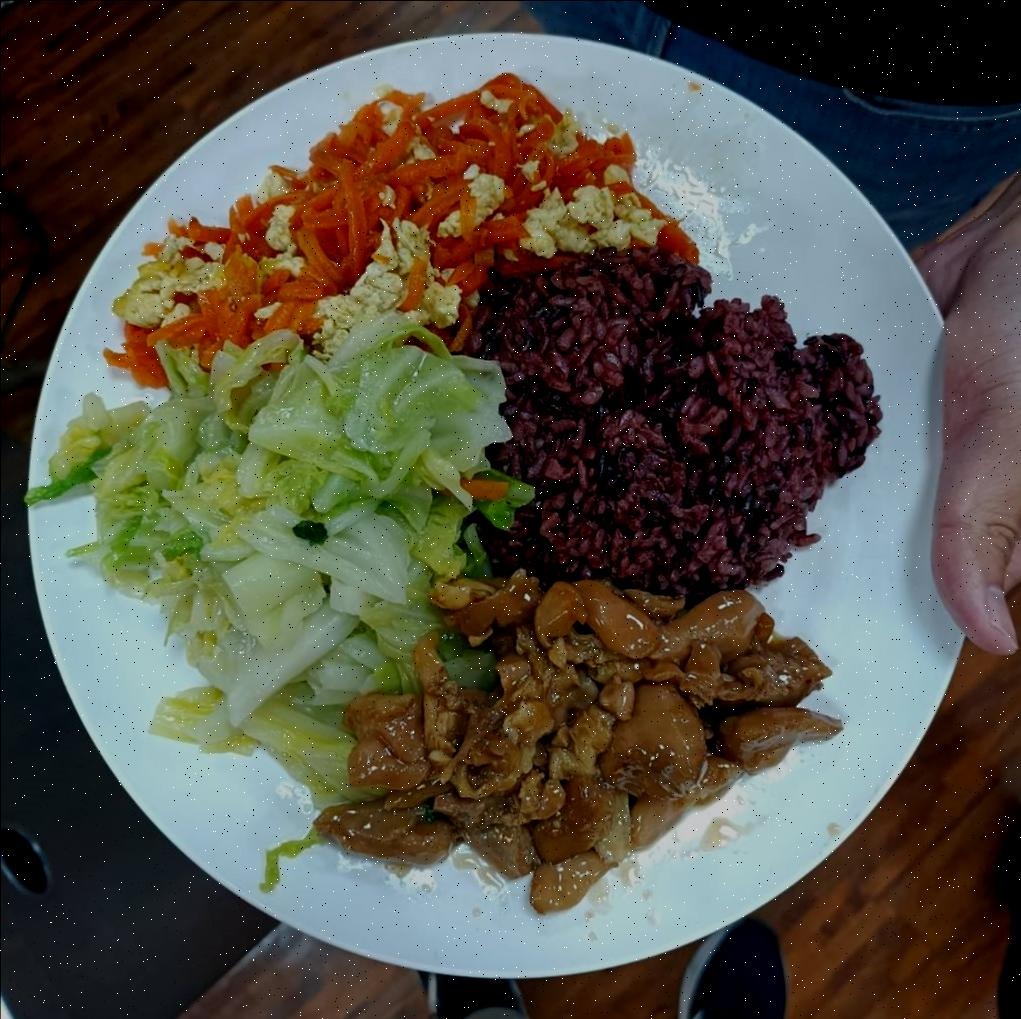big fried chicken leg: (9, 28, 983, 989)
braised fish: (479, 273, 853, 585)
braised fish fillet: (83, 332, 483, 720), (123, 90, 656, 352)
braised pork: (343, 569, 825, 878)
